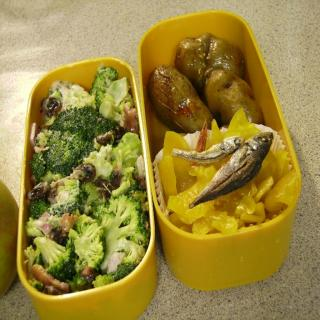Broccoli: (24, 66, 150, 286)
